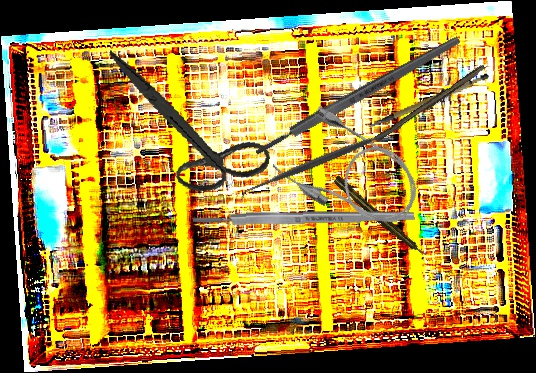Cannula: (268, 100, 432, 246)
Handpiece: (331, 174, 430, 261)
Iris Scissors: (86, 50, 285, 204)
Scalpel Handle: (252, 34, 463, 158), (373, 62, 488, 146), (361, 71, 494, 129), (192, 209, 415, 227)
Spatula Surgical: (234, 115, 412, 203)
